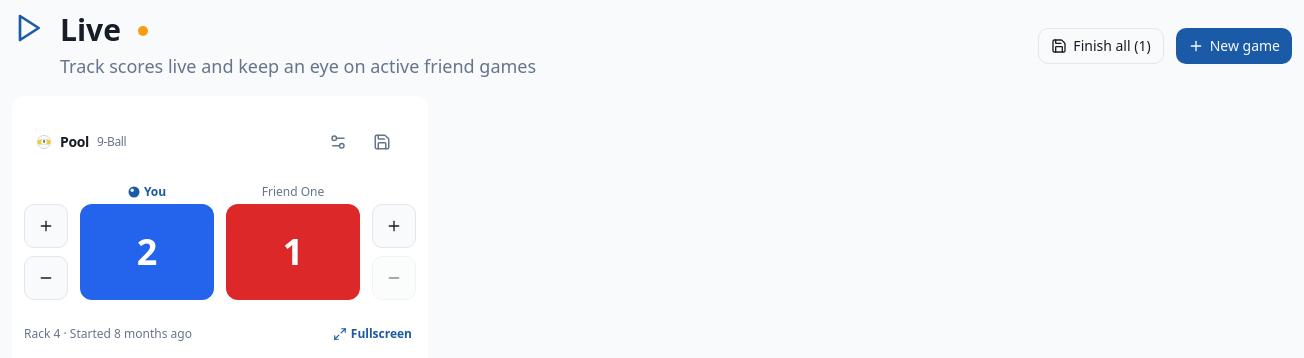
LiveScoreTracker perspective labels › only lets the most recent rack winner take a point back, in play order
Expected: the button named "Remove point for Friend One" is disabled, [372,256,416,300]
What coordinates should you click on to do the following:
click the button named "Remove point for You"
I would click on:
 (46, 278)
Its box is [24,256,68,300].
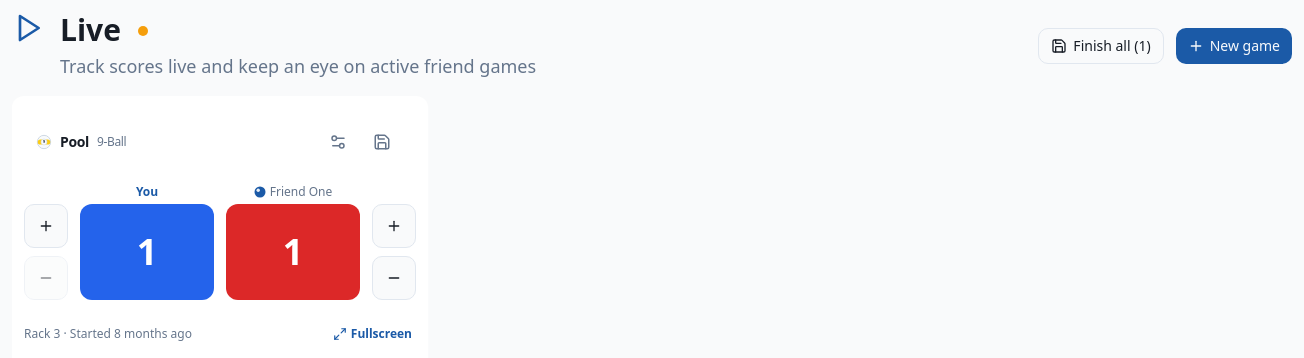
Expected: the button named "Remove point for Friend One" is enabled, [372,256,416,300]
Result: the button named "Score for You: 1" is shown at [80,204,214,300]
